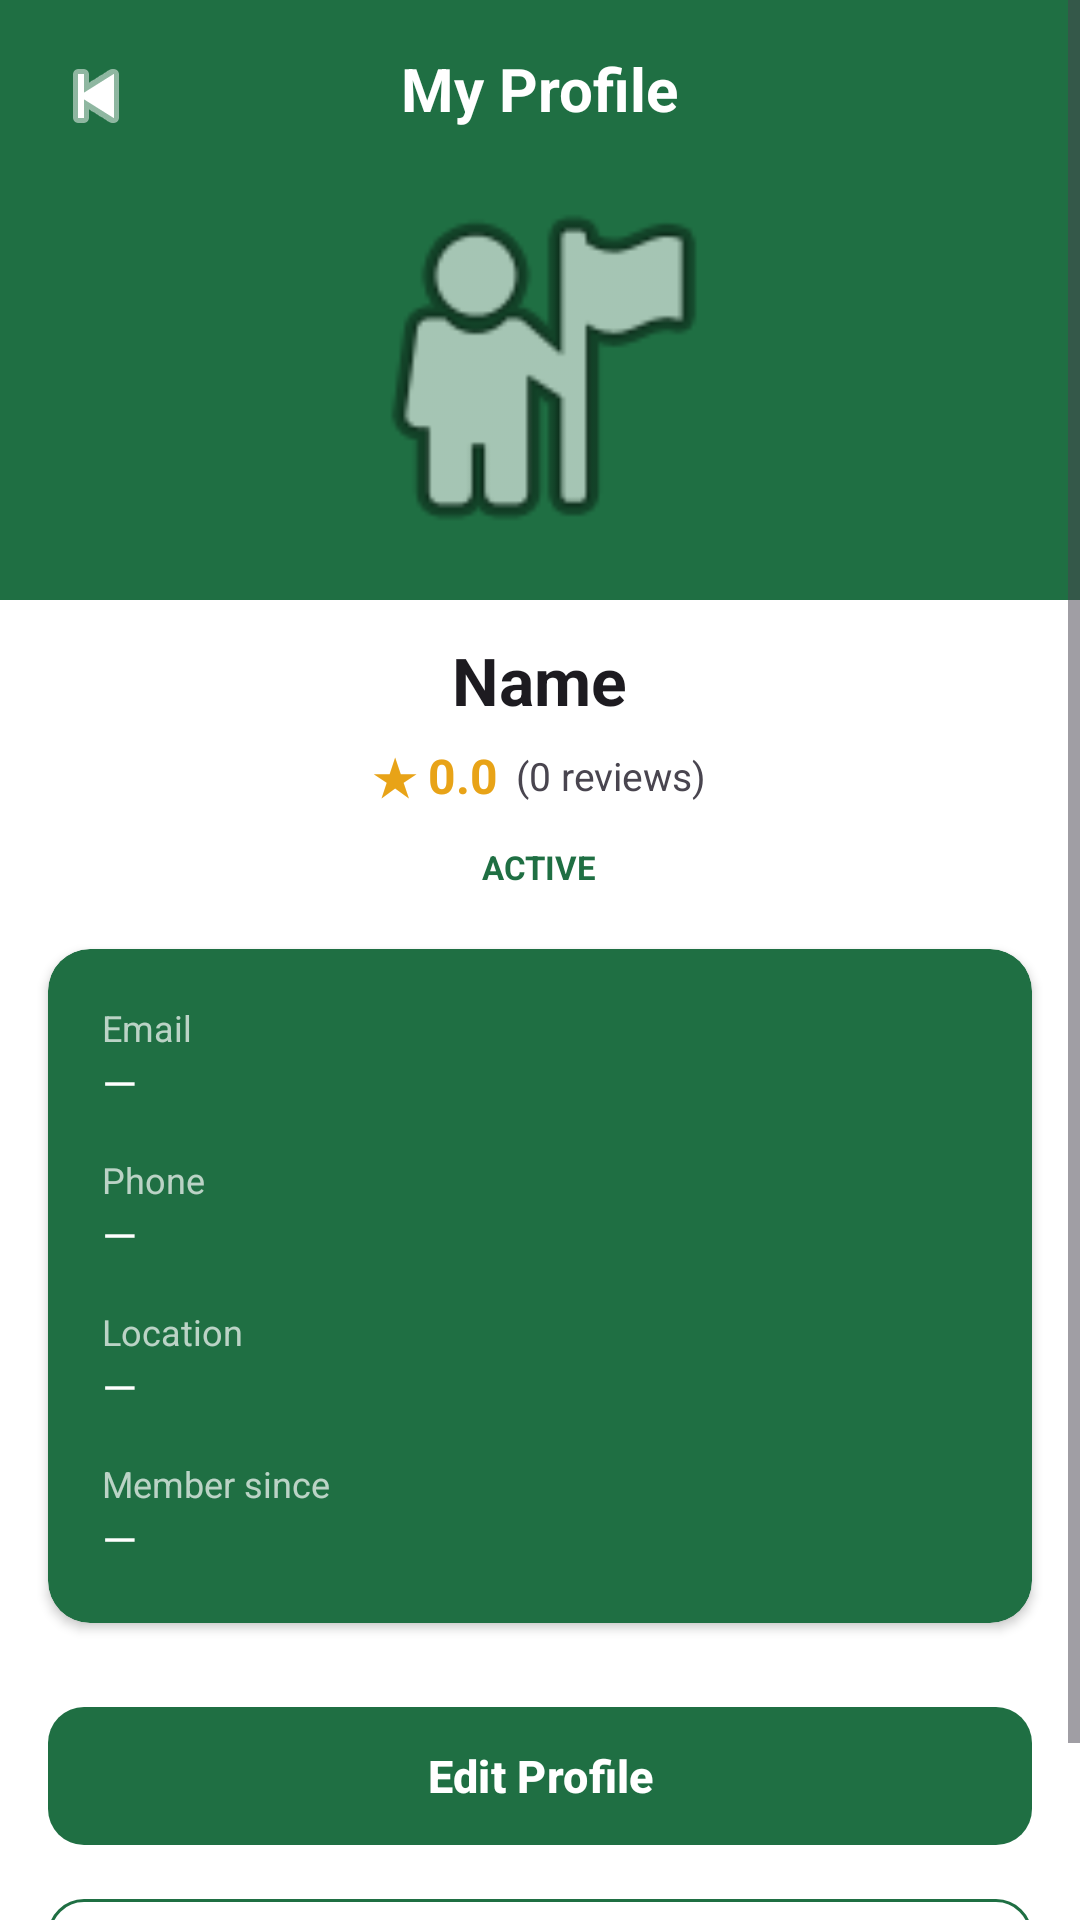

Icon bounding boxes for this 1080px x 1920px phone screenshot, format [x1,y1,x2,y2]:
Back: [73,69,119,123]
